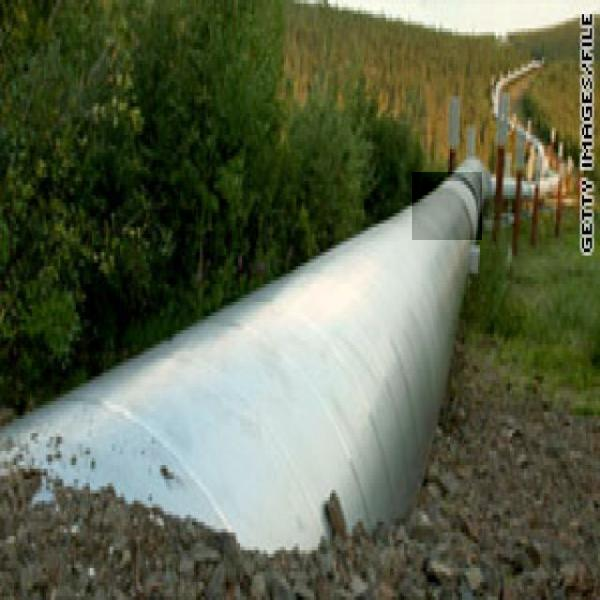no leak: (412, 172, 482, 240)
